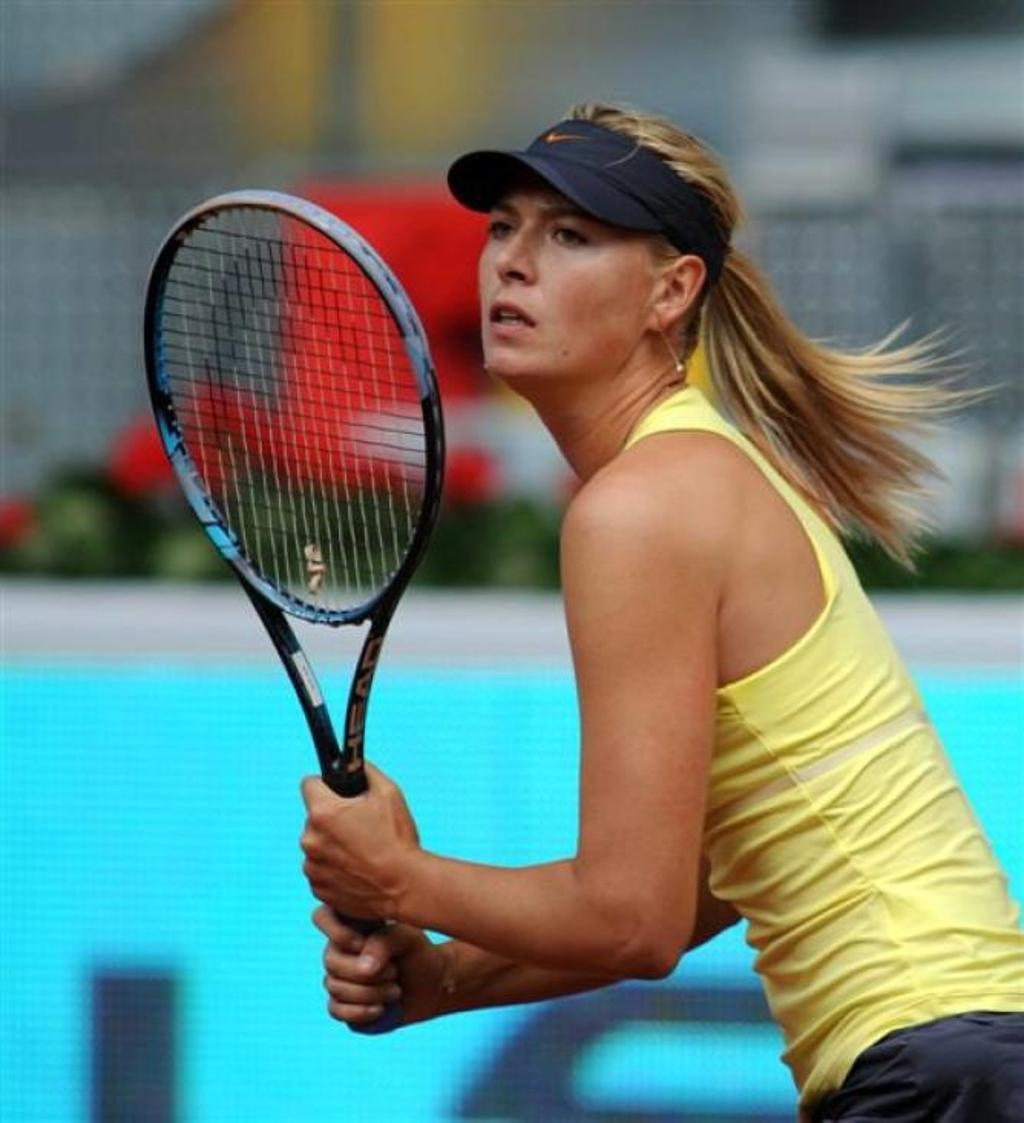face: (481, 183, 652, 380)
